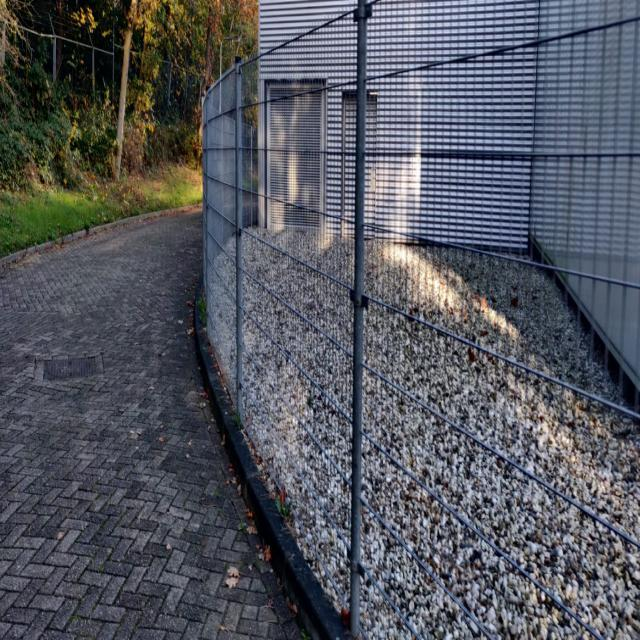fence line: (199, 48, 640, 639)
